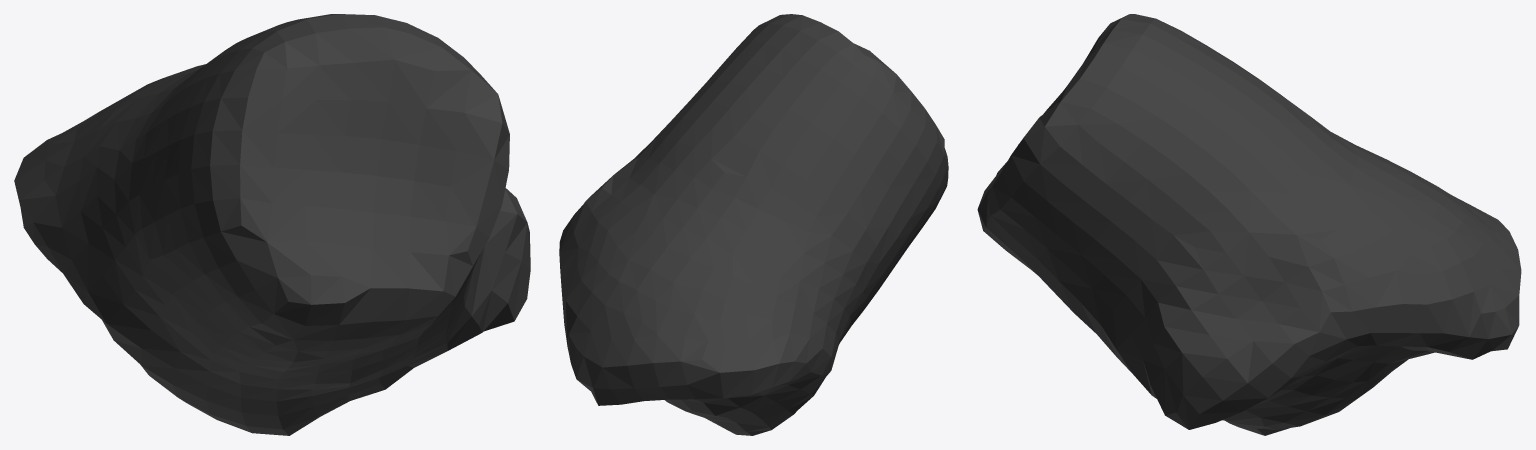
Rendered from VENA_CAVA_CRANIAL.glb.
3 views of the same model, side by side, from view 1: azimuth 30°, elevation 25°; view 2: azimuth 150°, elevation 25°; view 3: azimuth 270°, elevation 25° (orthographic). The views are drawn at different scales.
Parts seen in each view (by area): view 1: VENA_CAVA_CRANIAL; view 2: VENA_CAVA_CRANIAL; view 3: VENA_CAVA_CRANIAL.
Part boxes in pixels (x1,y1,x2,y2): VENA_CAVA_CRANIAL: (14, 14, 530, 435); VENA_CAVA_CRANIAL: (559, 14, 948, 435); VENA_CAVA_CRANIAL: (977, 14, 1521, 435).
Size of the model in its own units: 27.02 by 31.23 by 38.68.
1 material, 1 textured.
